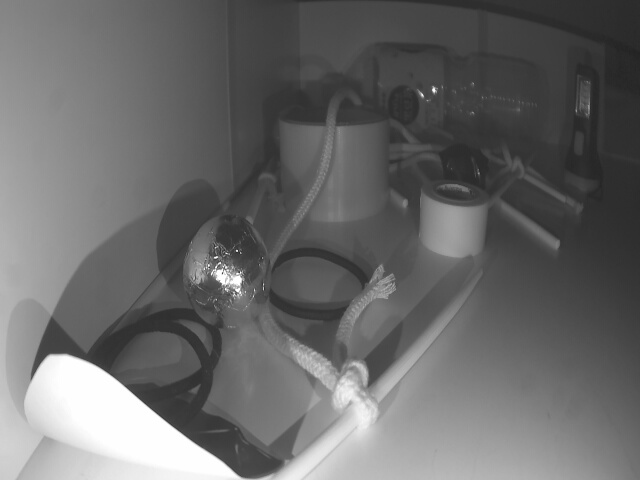Dead: (442, 143, 487, 186)
Live: (184, 214, 276, 328)
